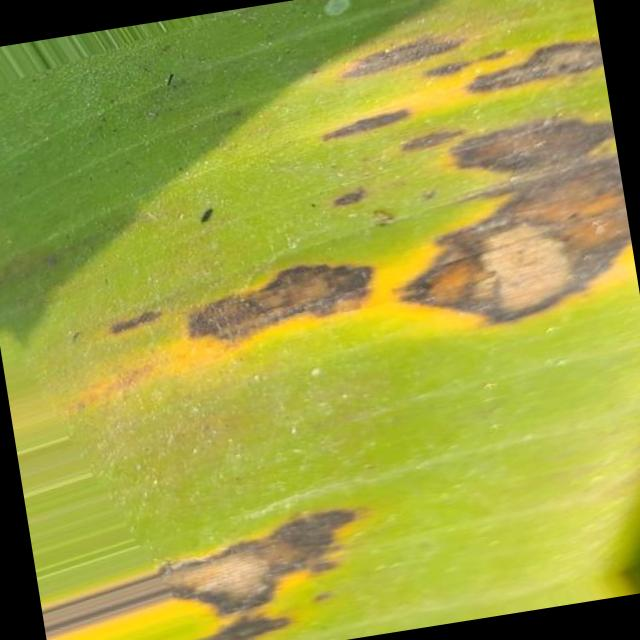Banana_Black_Sigatoka: (188, 0, 640, 423), (47, 481, 391, 640)
